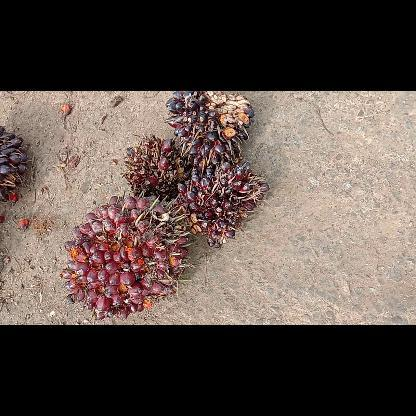TBS abnormal: (184, 162, 268, 248), (167, 90, 255, 172), (122, 135, 180, 195)
TBS masak: (60, 194, 190, 316)
